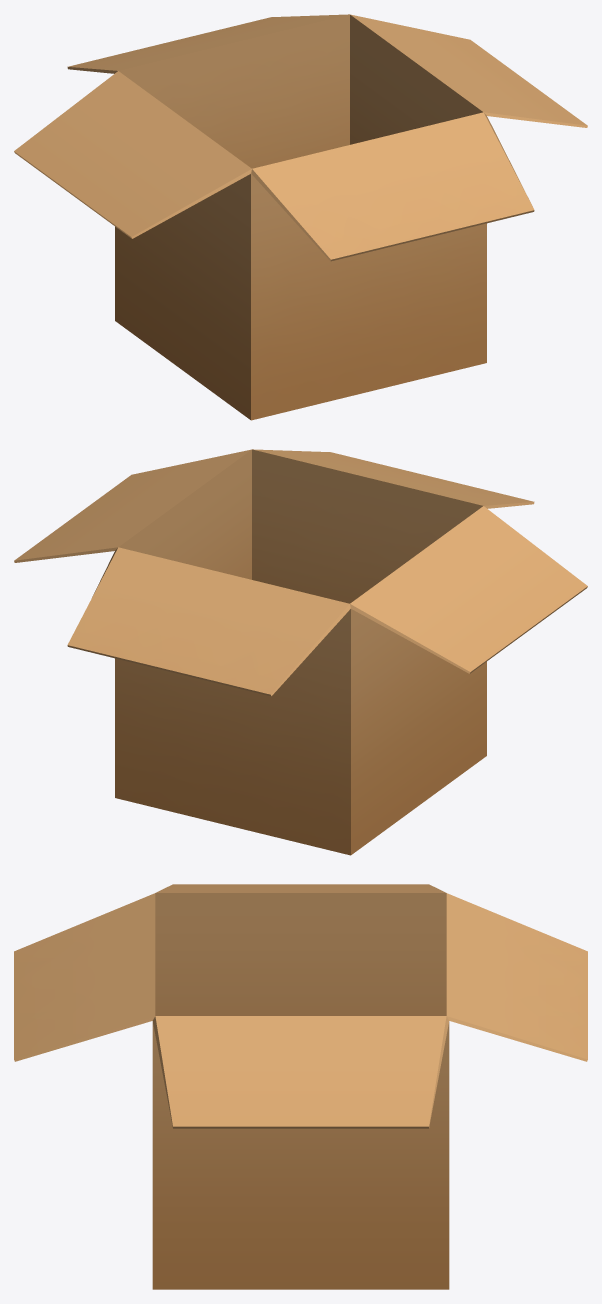
3 views of the same model, one above another, from view 1: azimuth 30°, elevation 25°; view 2: azimuth 150°, elevation 25°; view 3: azimuth 270°, elevation 25° (orthographic). The views are drawn at different scales.
Visible parts, largest first — view 1: Box_M; view 2: Box_M; view 3: Box_M.
Boxes of the visible parts, x1,y1,x2,y2 form: Box_M: [14, 14, 587, 420]; Box_M: [14, 449, 587, 855]; Box_M: [14, 884, 587, 1289].
Size of the model in its own units: 144 by 75.49 by 144.
1 material, 1 textured.
